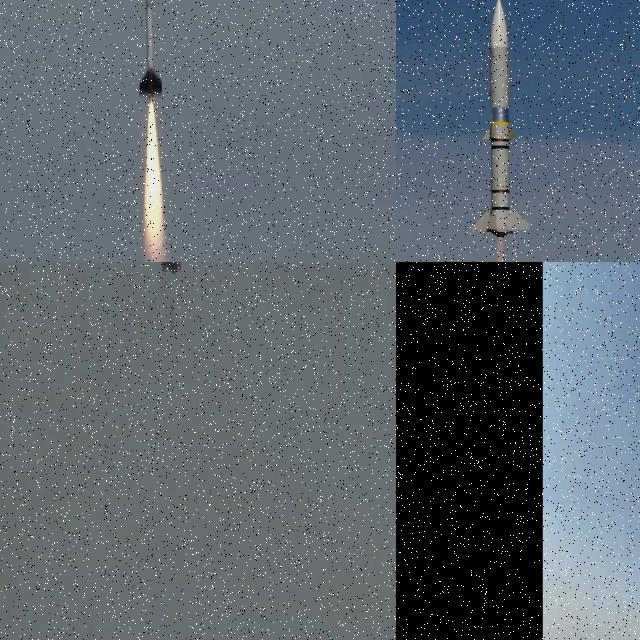Rocket: (469, 0, 533, 239), (138, 0, 162, 106), (170, 298, 173, 331)
